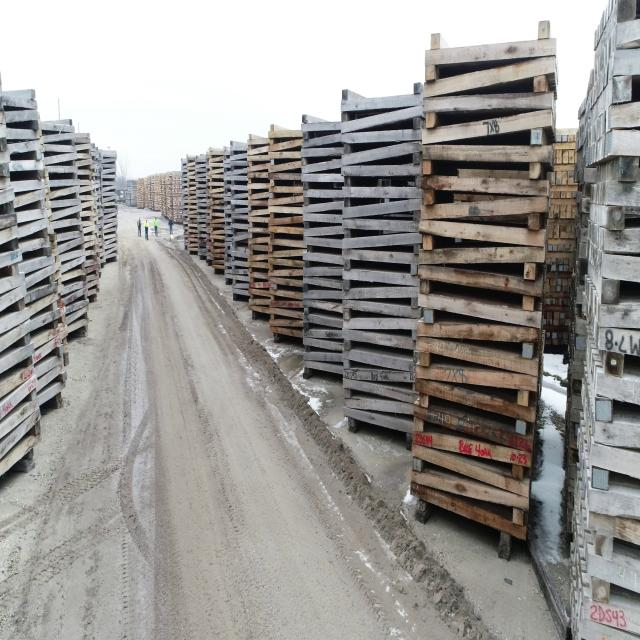stack: (407, 13, 561, 566)
